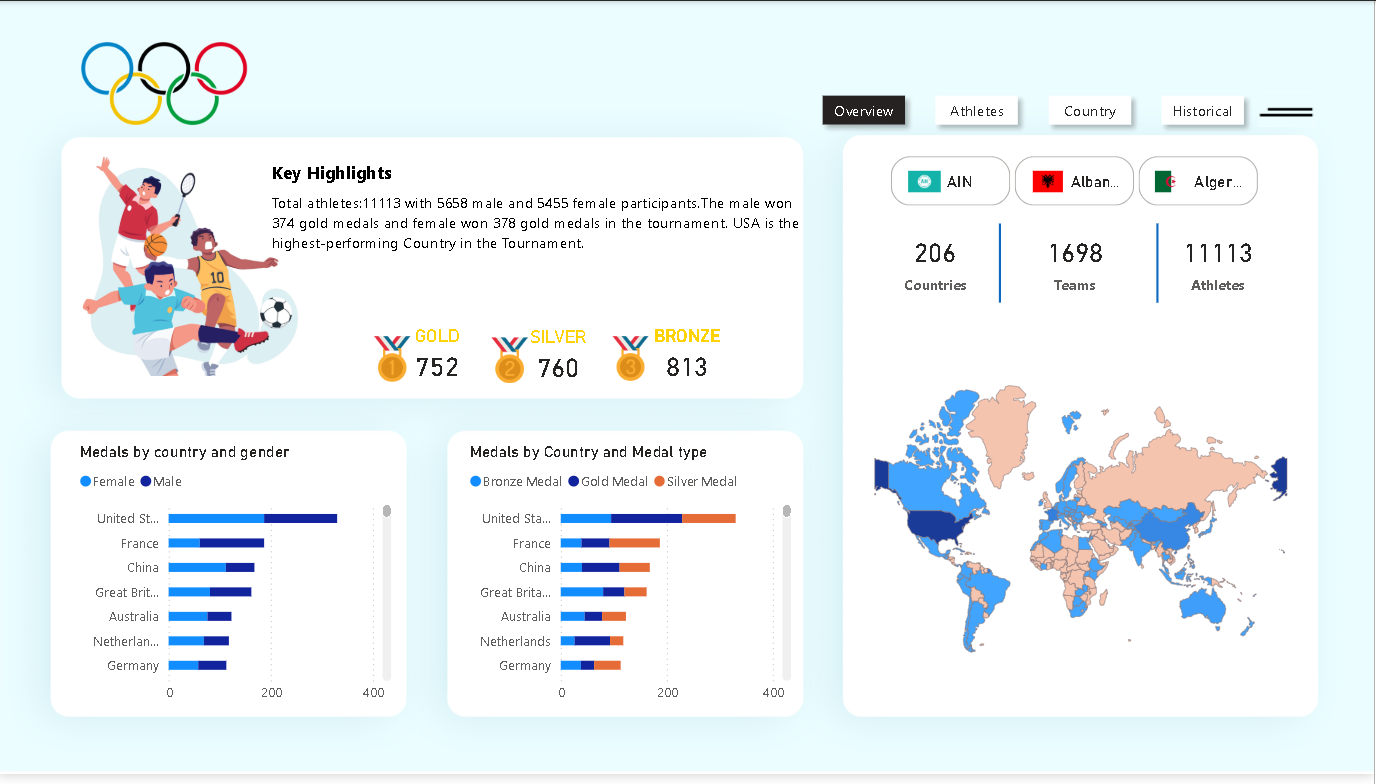

Layout of this report page (visuals, bound fields, positions):
{"tool":"powerbi","page":{"name":"Overview","canvas":[1280,720],"ordinal":1},"visuals":[{"type":"image","box":[71.2,122.7,220.9,240.5],"z":0},{"type":"shape","box":[255.2,156.4,492,98.8],"z":0,"group":"g1"},{"type":"card","fields":{"Values":["Medallists.Country_Playing"]},"box":[806.1,206.1,132.9,74.3],"z":0,"group":"g2"},{"type":"card","title":"GOLD","fields":{"Values":["Medallists.Total_Gold_Medals"]},"box":[368.1,300.6,82.2,57.7],"z":0,"group":"g5"},{"type":"card","title":"BRONZE","fields":{"Values":["Medallists.Total_Bronze_Medals"]},"box":[600,300.6,82.2,58.9],"z":0,"group":"g4"},{"type":"card","title":"SILVER","fields":{"Values":["Medallists.Total_Silver_Medals"]},"box":[481,301.8,82.2,57.7],"z":0,"group":"g3"},{"type":"shape","box":[255.2,109.2,484.4,97.6],"z":1000,"group":"g1"},{"type":"card","fields":{"Values":["Medallists.Playing_Team"]},"box":[932.4,206.1,139.5,74.3],"z":1000,"group":"g2"},{"type":"image","box":[341.1,306.7,52.8,52],"z":1000,"group":"g5"},{"type":"image","box":[563.2,306.7,51.5,51.5],"z":1000,"group":"g4"},{"type":"image","box":[450.3,307.9,52,52],"z":1000,"group":"g3"},{"type":"advancedSlicerVisual","title":"country","fields":{"Values":["Medallists.country"]},"box":[806.1,139.9,392.6,56.4],"z":2000},{"type":"card","fields":{"Values":["Medallists.Total_athletes"]},"box":[1071.9,206.1,126.3,74.3],"z":2000,"group":"g2"},{"type":"shapeMap","fields":{"Category":["Medallists.country"],"Value":["Medallists.Total_Medals"]},"box":[789.5,302.3,436,359.3],"z":3000},{"type":"barChart","title":"Medals by country and gender","fields":{"Y":["Medallists.Total_Medals"],"Category":["Medallists.country"],"Series":["Medallists.gender"]},"box":[70.9,410.5,300,251.2],"z":4000},{"type":"barChart","title":"Medals by Country and Medal type","fields":{"Y":["Medallists.Total_Medals"],"Category":["Medallists.country"],"Series":["Medallists.medal_type"]},"box":[433.7,410.5,309.3,251.2],"z":5000},{"type":"group","id":"g1","title":"Group 2","box":[255.2,109.2,492,146],"z":8000},{"type":"group","id":"g2","title":"Group 3","box":[806.1,206.1,392.6,73.6],"z":9000},{"type":"group","id":"g3","title":"Group 1","box":[450.3,301.8,112.9,58.1],"z":10000},{"type":"group","id":"g4","title":"Group 4","box":[563.2,300.6,119,58.9],"z":11000},{"type":"group","id":"g5","title":"Group 5","box":[341.1,300.6,109.2,57.7],"z":12000},{"type":"shape","box":[786.5,207.4,292,73.6],"z":13000},{"type":"shape","box":[932.5,207.4,292,73.6],"z":14000},{"type":"pageNavigator","box":[758.3,78.5,413.5,45.4],"z":15000},{"type":"actionButton","box":[1171.8,84.7,52.8,31.9],"z":16000},{"type":"image","box":[34.7,11.6,241.5,128.7],"z":18000}]}

Visuals, with their boxes in screenshot pixels (x1, y1, x2, y2), scaled from the page's 1280x720 canvas onto the 1376x784 screenshot:
image: {"left": 77, "top": 134, "right": 314, "bottom": 395}
shape: {"left": 274, "top": 170, "right": 803, "bottom": 278}
card - Medallists.Country_Playing: {"left": 867, "top": 224, "right": 1009, "bottom": 305}
"GOLD" card: {"left": 396, "top": 327, "right": 484, "bottom": 390}
"BRONZE" card: {"left": 645, "top": 327, "right": 733, "bottom": 391}
"SILVER" card: {"left": 517, "top": 329, "right": 605, "bottom": 391}
shape: {"left": 274, "top": 119, "right": 795, "bottom": 225}
card - Medallists.Playing_Team: {"left": 1002, "top": 224, "right": 1152, "bottom": 305}
image: {"left": 367, "top": 334, "right": 423, "bottom": 391}
image: {"left": 605, "top": 334, "right": 661, "bottom": 390}
image: {"left": 484, "top": 335, "right": 540, "bottom": 392}
"country" advancedSlicerVisual: {"left": 867, "top": 152, "right": 1289, "bottom": 214}
card - Medallists.Total_athletes: {"left": 1152, "top": 224, "right": 1288, "bottom": 305}
shapeMap - Medallists.country x Medallists.Total_Medals: {"left": 849, "top": 329, "right": 1317, "bottom": 720}
"Medals by country and gender" barChart: {"left": 76, "top": 447, "right": 399, "bottom": 721}
"Medals by Country and Medal type" barChart: {"left": 466, "top": 447, "right": 799, "bottom": 721}
"Group 2" group: {"left": 274, "top": 119, "right": 803, "bottom": 278}
"Group 3" group: {"left": 867, "top": 224, "right": 1289, "bottom": 305}
"Group 1" group: {"left": 484, "top": 329, "right": 605, "bottom": 392}
"Group 4" group: {"left": 605, "top": 327, "right": 733, "bottom": 391}
"Group 5" group: {"left": 367, "top": 327, "right": 484, "bottom": 390}
shape: {"left": 845, "top": 226, "right": 1159, "bottom": 306}
shape: {"left": 1002, "top": 226, "right": 1316, "bottom": 306}
pageNavigator: {"left": 815, "top": 85, "right": 1260, "bottom": 135}
actionButton: {"left": 1260, "top": 92, "right": 1316, "bottom": 127}
image: {"left": 37, "top": 13, "right": 297, "bottom": 153}
